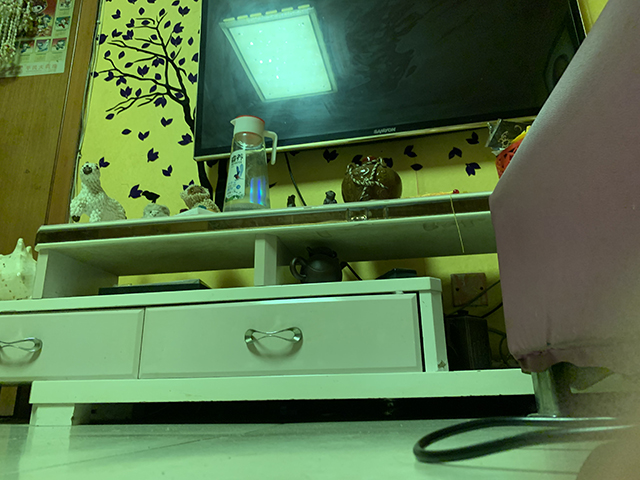cabinet: (2, 191, 536, 427)
wire: (412, 416, 606, 466)
